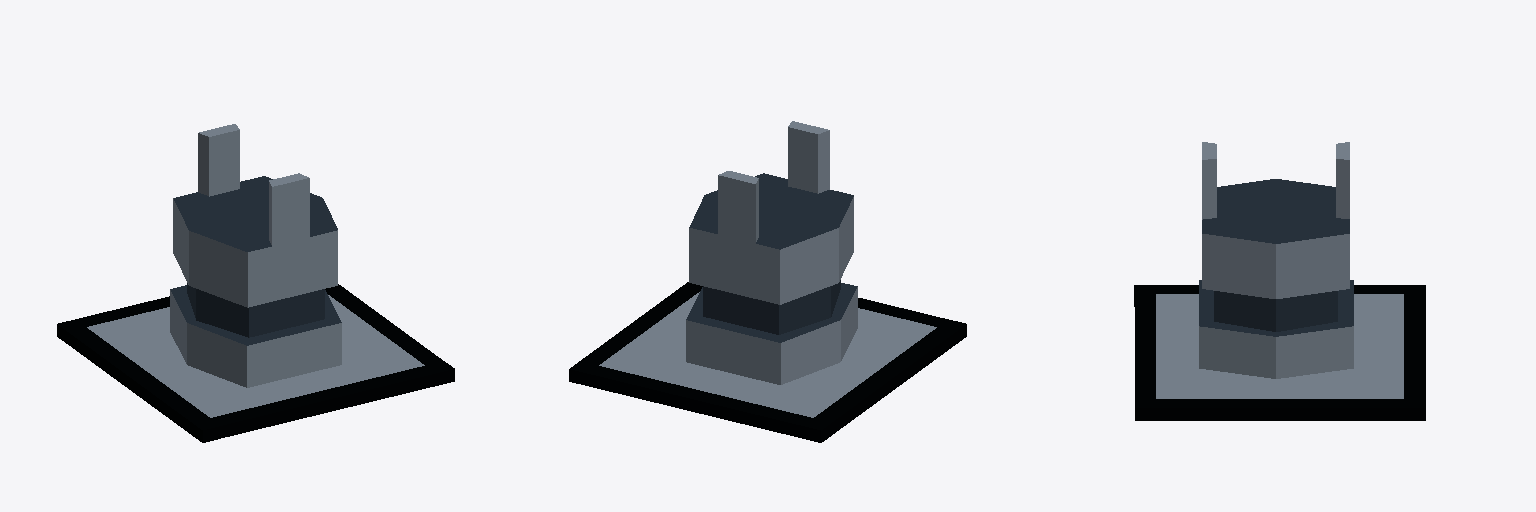
The model's file is base_tower.obj.
3 views of the same model, side by side, from view 1: azimuth 30°, elevation 25°; view 2: azimuth 150°, elevation 25°; view 3: azimuth 270°, elevation 25° (orthographic).
Visible parts, largest first — view 1: Cube; view 2: Cube; view 3: Cube.
Boxes of the visible parts, x1,y1,x2,y2 form: Cube: [57, 124, 454, 442]; Cube: [569, 121, 966, 442]; Cube: [1134, 142, 1425, 420].
Size of the model in its own units: 0.7245 by 0.5648 by 0.7243.